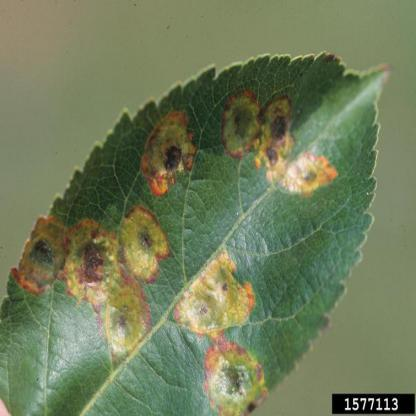apple rust leaf: (1, 59, 407, 414)
